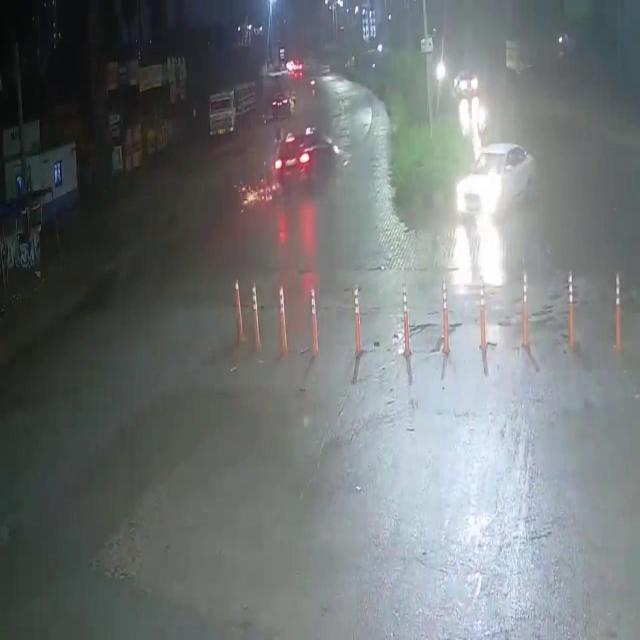accident: (230, 125, 339, 226)
